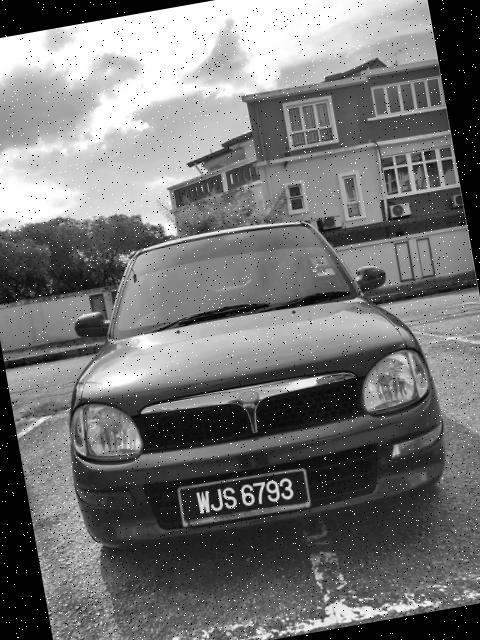License_Plate: (179, 465, 314, 527)
car: (23, 180, 462, 567)
